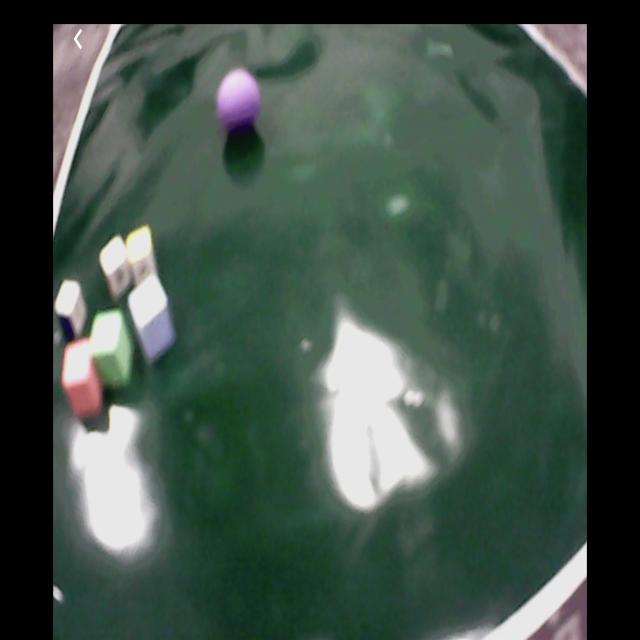ball: (215, 70, 260, 132)
